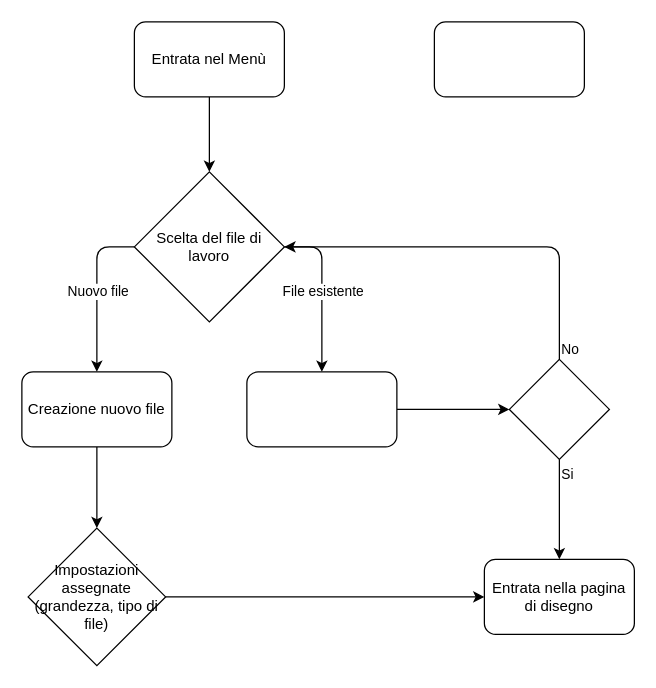
The diagram is 656 pixels wide and 688 high, and some of its shapes have lost their labels. Each missing label, with the box of its shape:
Caricamento file: (246, 371, 397, 447)
File in regola: (508, 358, 609, 459)
Uscita dal programma: (433, 21, 584, 97)
